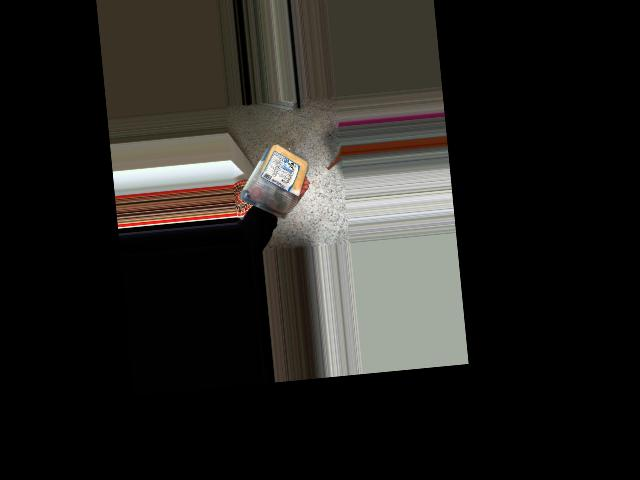cheese: (262, 140, 305, 209)
